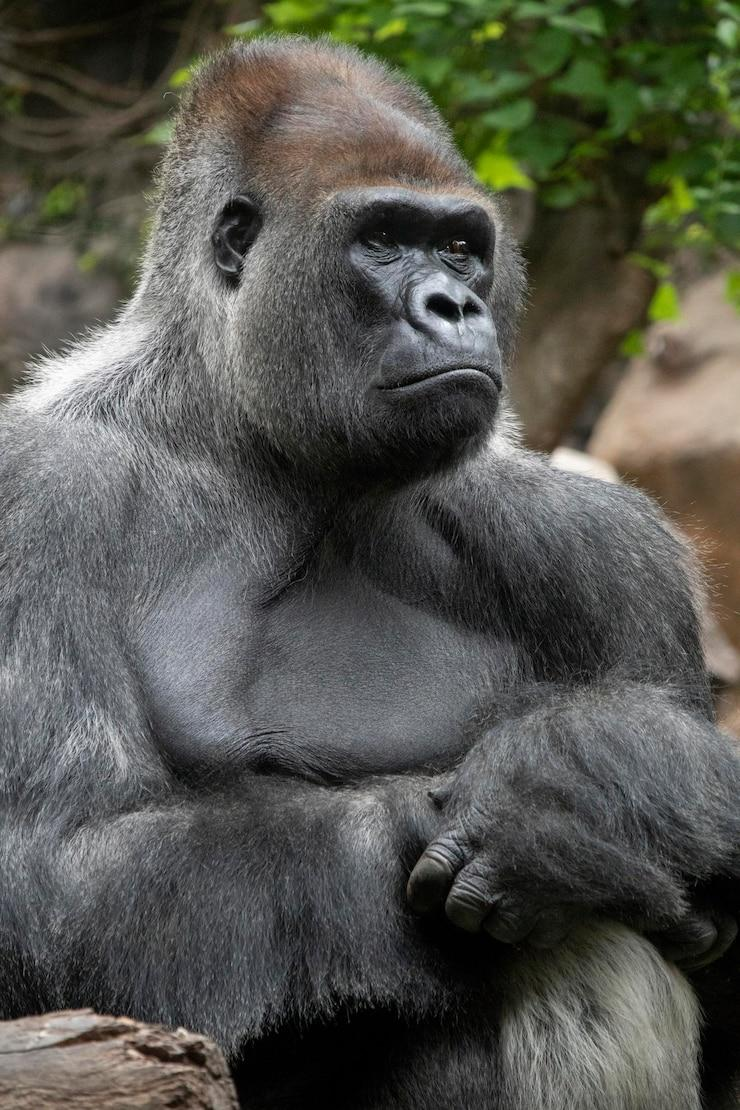gorille_Autres: (0, 0, 740, 1097)
